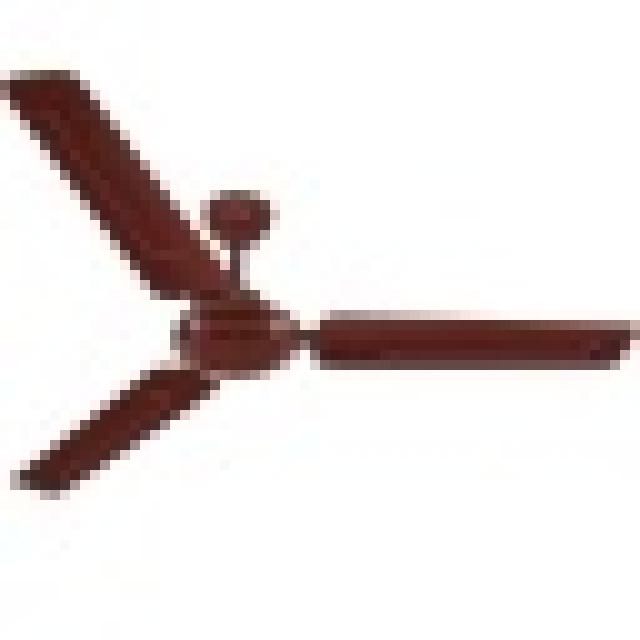Bulb: (8, 55, 640, 502)
